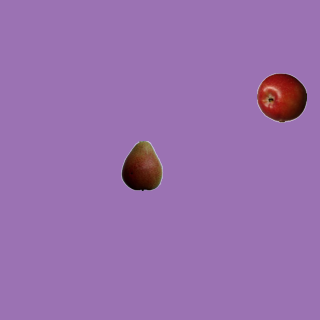Apple Braeburn: (256, 72, 306, 122)
Pear Forelle: (116, 140, 166, 190)
